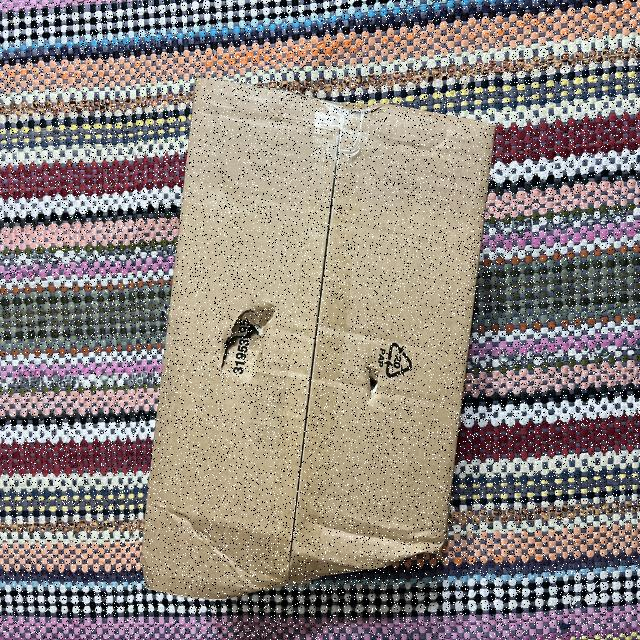damaged: (136, 66, 500, 605), (236, 516, 468, 628), (217, 292, 276, 387)
